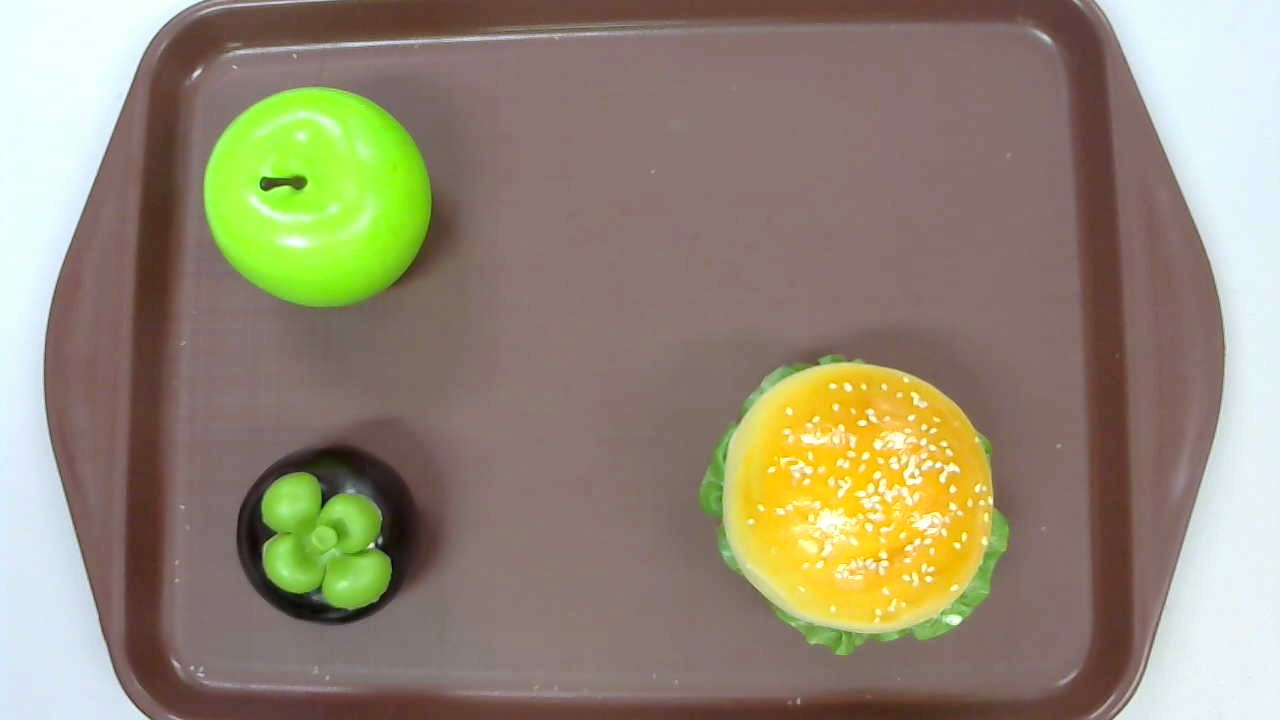green apple: (203, 86, 432, 309)
hamburger: (699, 353, 1012, 659)
mangosteen: (237, 443, 421, 627)
